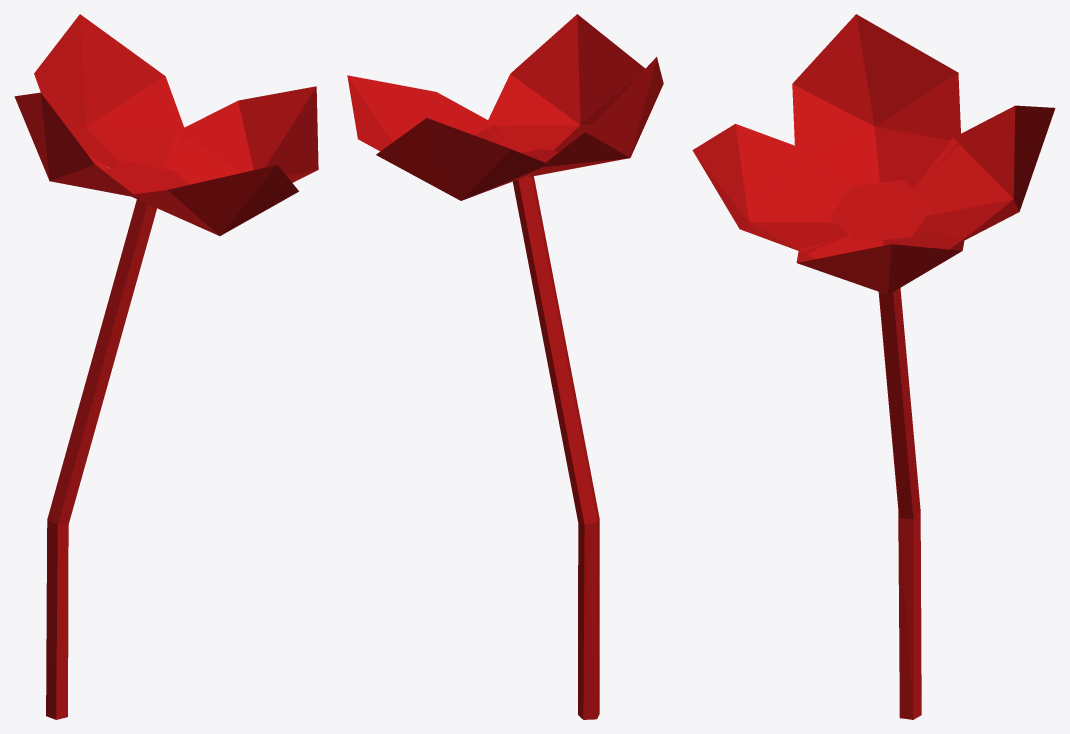
Rendered from flower.obj.
3 renders of one model, left to right at view 1: azimuth 30°, elevation 25°; view 2: azimuth 150°, elevation 25°; view 3: azimuth 270°, elevation 25°, orthographic. The views are drawn at different scales.
Visible parts, largest first — view 1: Flower_Circle; view 2: Flower_Circle; view 3: Flower_Circle.
Part boxes in pixels (x1,y1,x2,y2): Flower_Circle: (14,14,318,719); Flower_Circle: (347,14,663,719); Flower_Circle: (692,14,1055,719).
Size of the model in its own units: 0.236 by 0.5016 by 0.2429.
